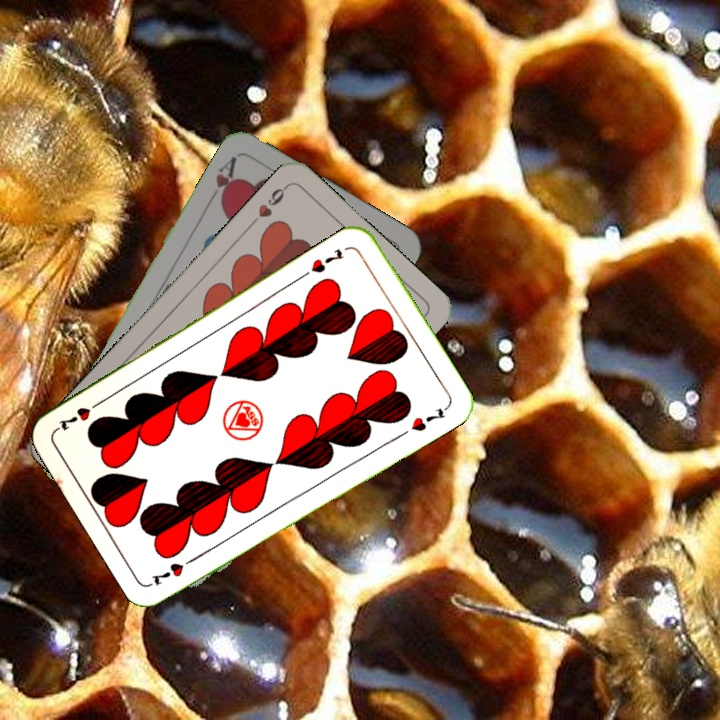H7: (148, 552, 201, 588), (307, 245, 347, 276)
H9: (246, 181, 291, 229)
HA: (204, 152, 240, 208)
